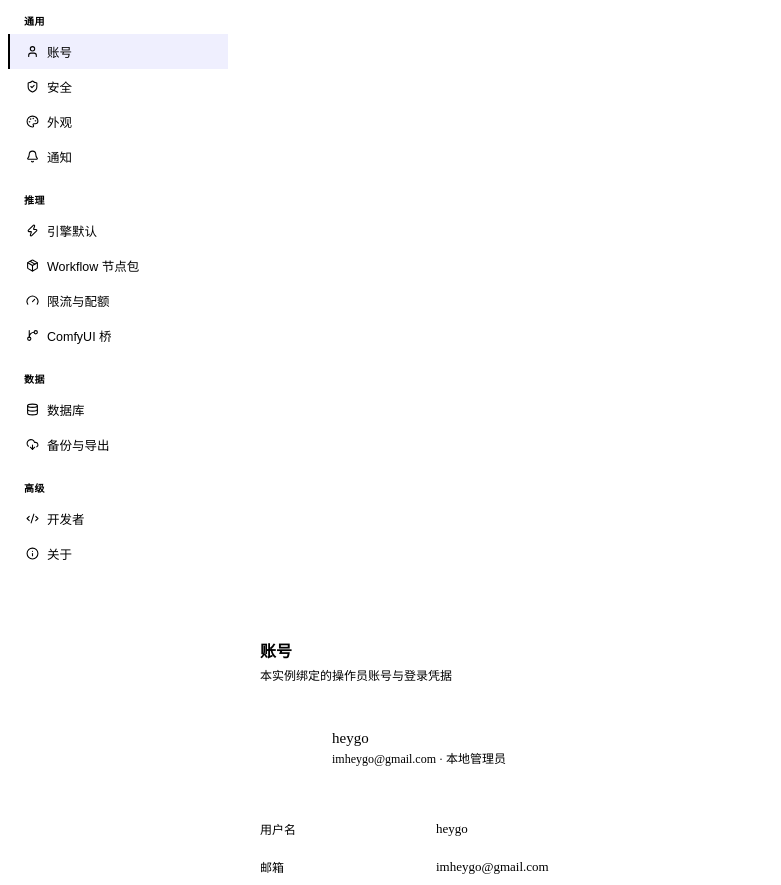
Test: SettingsOverlay sub-nav (m16 alignment) › placeholder sub-pages render the "敬请期待" hint
Click the button "限流与配额": (118, 300) x1=8 y1=283 x2=228 y2=318
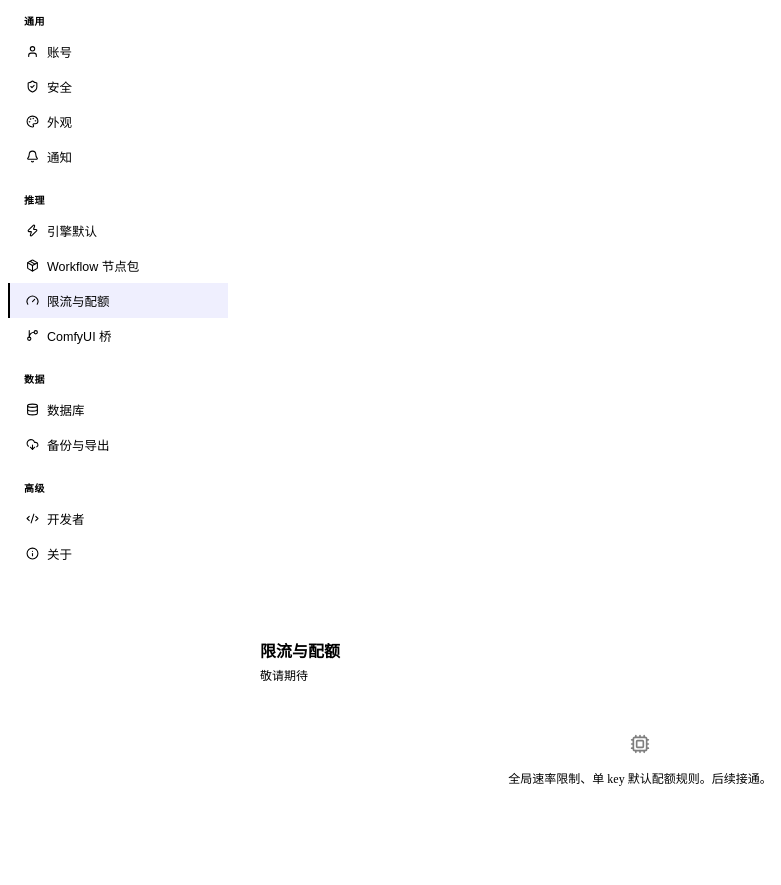
Check: the text "敬请期待" is shown, box x1=260 y1=669 x2=308 y2=683
